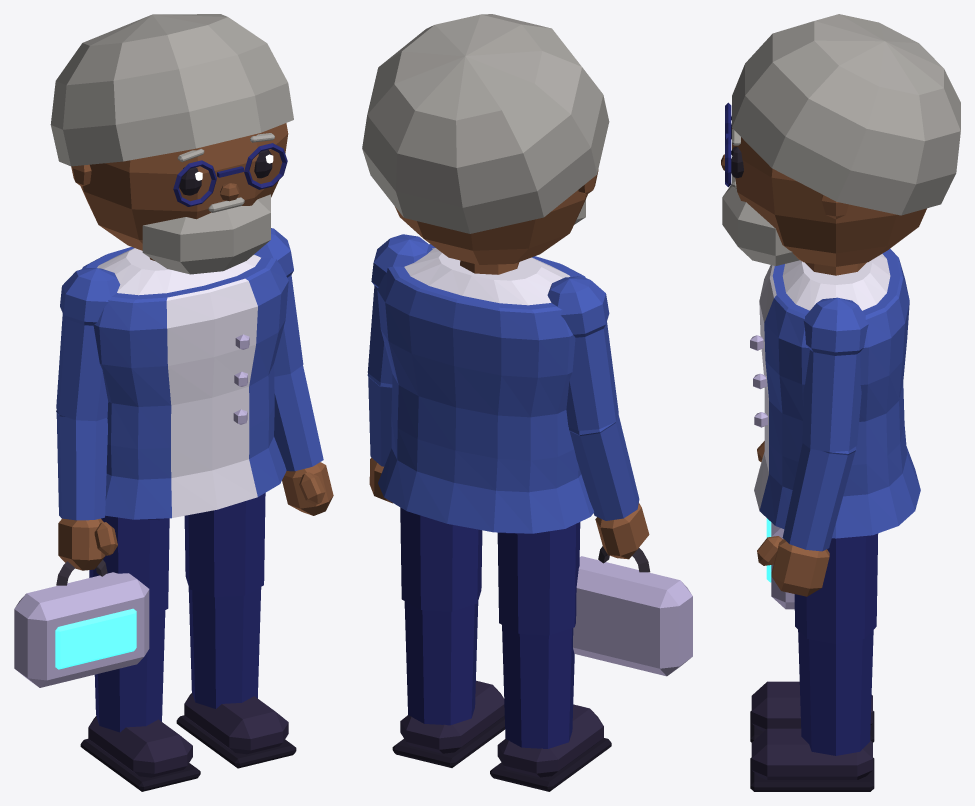
File: pri-k1.glb
3 views of the same model, side by side, from view 1: azimuth 30°, elevation 25°; view 2: azimuth 150°, elevation 25°; view 3: azimuth 270°, elevation 25° (orthographic).
Visible parts, largest first — view 1: mantel, haare, bein_l, gegenstand_samplecase, arm_r, kopf, bein_r, bart, arm_l, schuh_l, schuh_r, torso (+4 smaller); view 2: mantel, haare, bein_r, bein_l, gegenstand_samplecase, arm_r, kopf, torso, schuh_r, arm_l, schuh_l, hand_r; view 3: haare, mantel, bein_l, arm_l, kopf, schuh_l, torso, bart, hand_l, schuh_r, gesicht, gegenstand_samplecase (+2 smaller).
Part boxes in pixels (left/top/right/bottom): mantel: left=82, top=247, right=288, bottom=519; haare: left=50, top=14, right=293, bottom=166; bein_l: left=184, top=493, right=265, bottom=708; gegenstand_samplecase: left=14, top=559, right=149, bottom=687; arm_r: left=56, top=268, right=120, bottom=520; kopf: left=71, top=123, right=288, bottom=250; bein_r: left=89, top=515, right=169, bottom=732; bart: left=142, top=194, right=270, bottom=274; arm_l: left=254, top=228, right=323, bottom=471; schuh_l: left=176, top=693, right=296, bottom=768; schuh_r: left=80, top=716, right=200, bottom=791; torso: left=97, top=248, right=260, bottom=295; mantel: left=377, top=244, right=593, bottom=533; haare: left=362, top=14, right=609, bottom=233; bein_r: left=497, top=522, right=580, bottom=748; bein_l: left=400, top=507, right=482, bottom=725; gegenstand_samplecase: left=573, top=546, right=692, bottom=676; arm_r: left=547, top=276, right=639, bottom=520; kopf: left=395, top=169, right=598, bottom=264; torso: left=404, top=248, right=570, bottom=305; schuh_r: left=490, top=704, right=611, bottom=791; arm_l: left=367, top=234, right=432, bottom=466; schuh_l: left=392, top=680, right=504, bottom=767; hand_r: left=595, top=503, right=649, bottom=559; haare: left=732, top=14, right=960, bottom=215; mantel: left=754, top=249, right=920, bottom=538; bein_l: left=794, top=533, right=878, bottom=755; arm_l: left=782, top=297, right=868, bottom=551; kopf: left=732, top=128, right=926, bottom=266; schuh_l: left=750, top=728, right=874, bottom=791; torso: left=782, top=254, right=890, bottom=310; bart: left=722, top=175, right=799, bottom=265; hand_l: left=757, top=536, right=829, bottom=596; schuh_r: left=750, top=681, right=874, bottom=742; gesicht: left=721, top=102, right=743, bottom=187; gegenstand_samplecase: left=766, top=518, right=794, bottom=609.
Size of the model in its own units: 0.0114 by 0.0257 by 0.00772.
